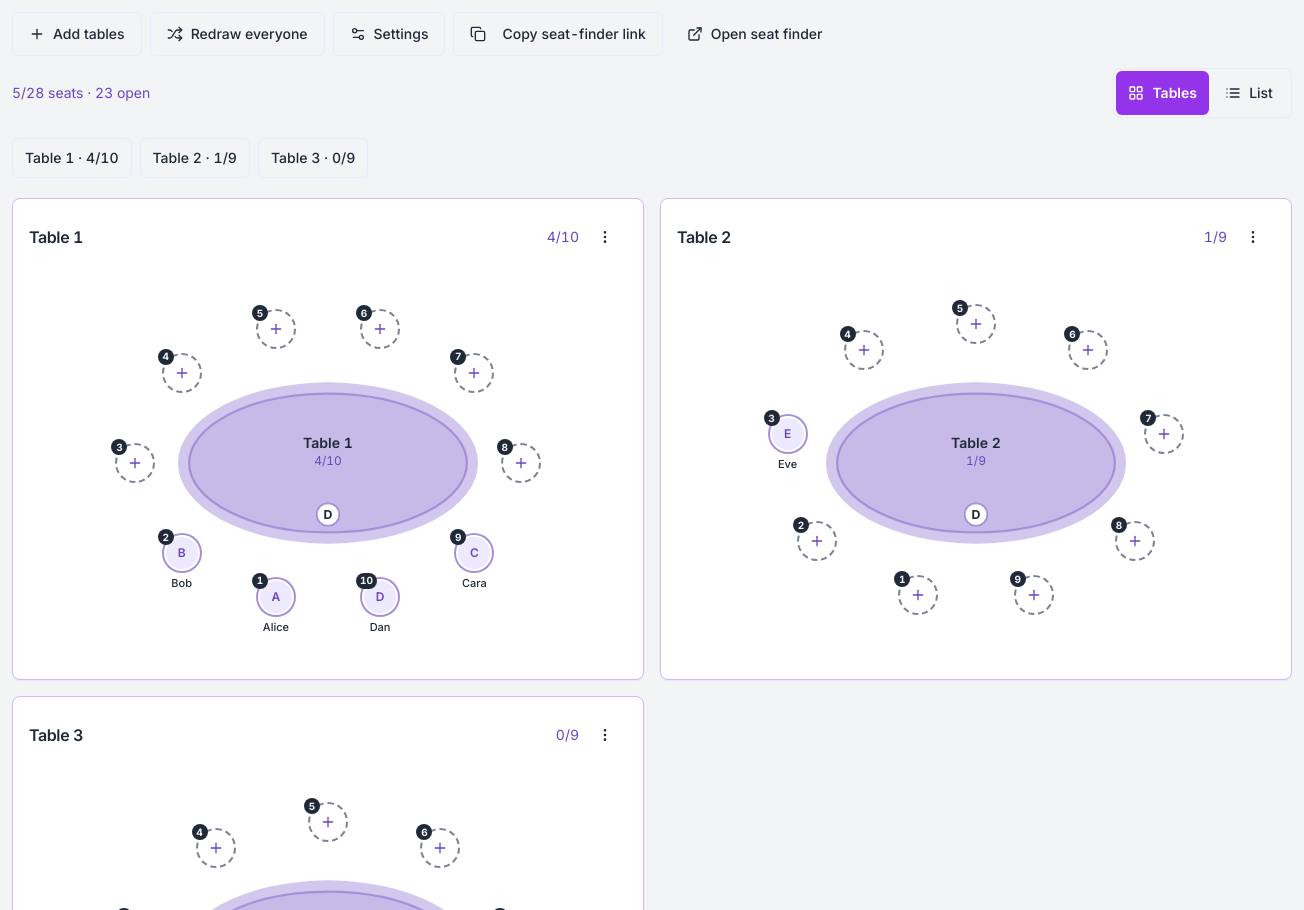
SeatingPanel: a table's menu › offers what each table can do now
The image size is (1304, 910).
Click the button named "Table 1 options" at (605, 237), box [583,215,627,259]
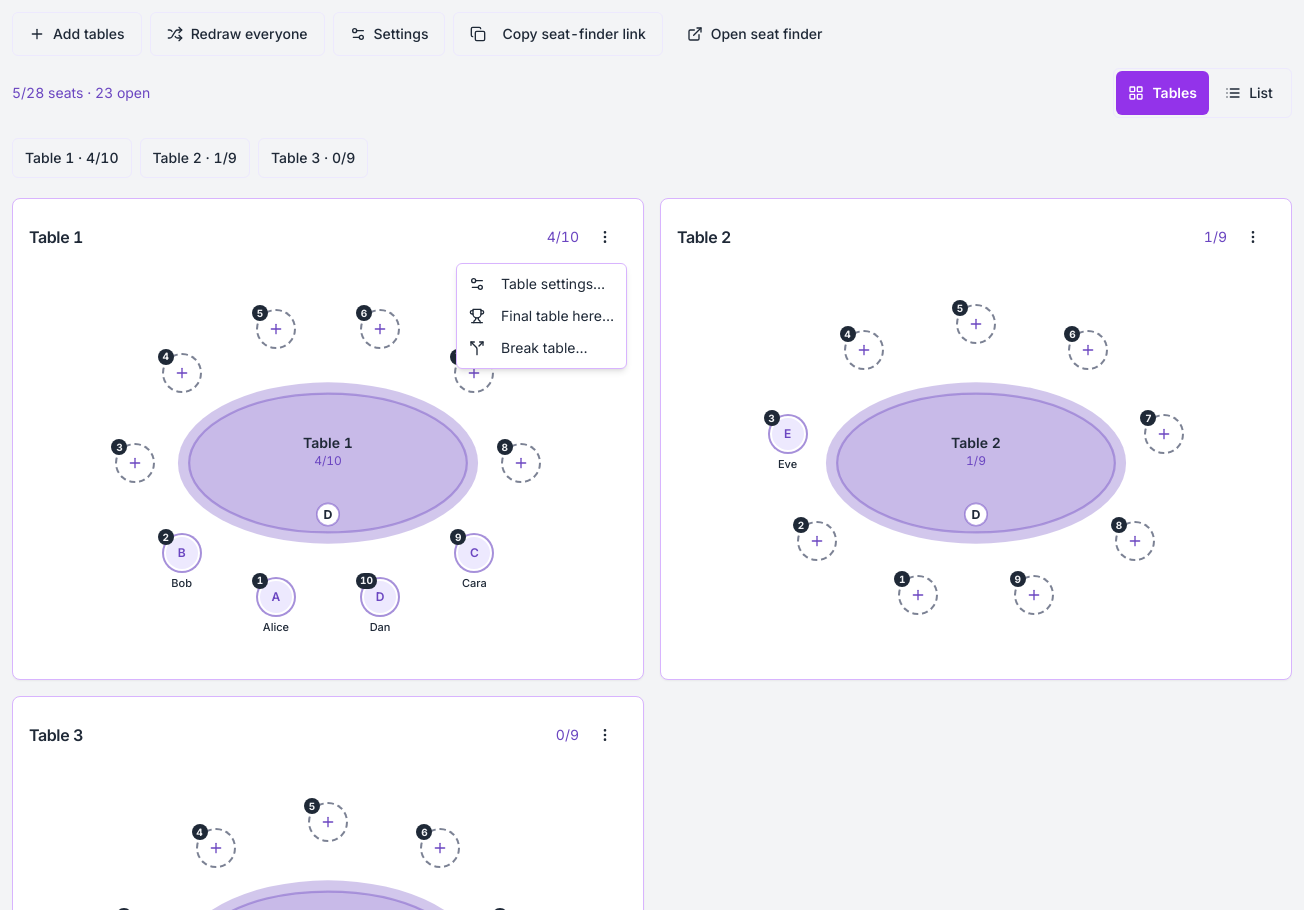
Expected: the menu items read "Table settings…", "Final table here…", "Break table…", in this order, [469,275,605,292]; [469,307,614,324]; [469,339,588,356]
Press Escape
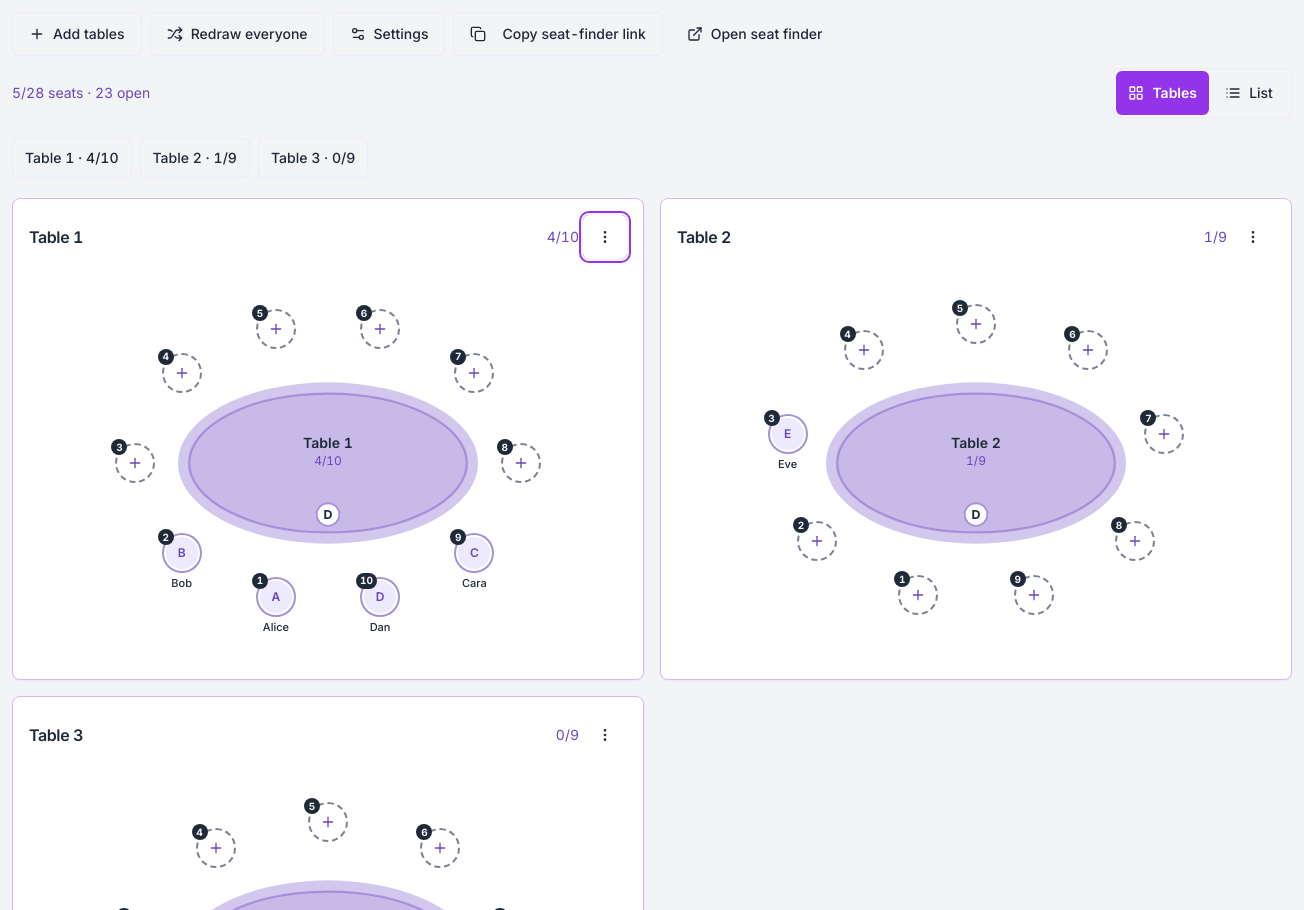
Click the button named "Table 3 options" at (605, 735), box [583,713,627,757]
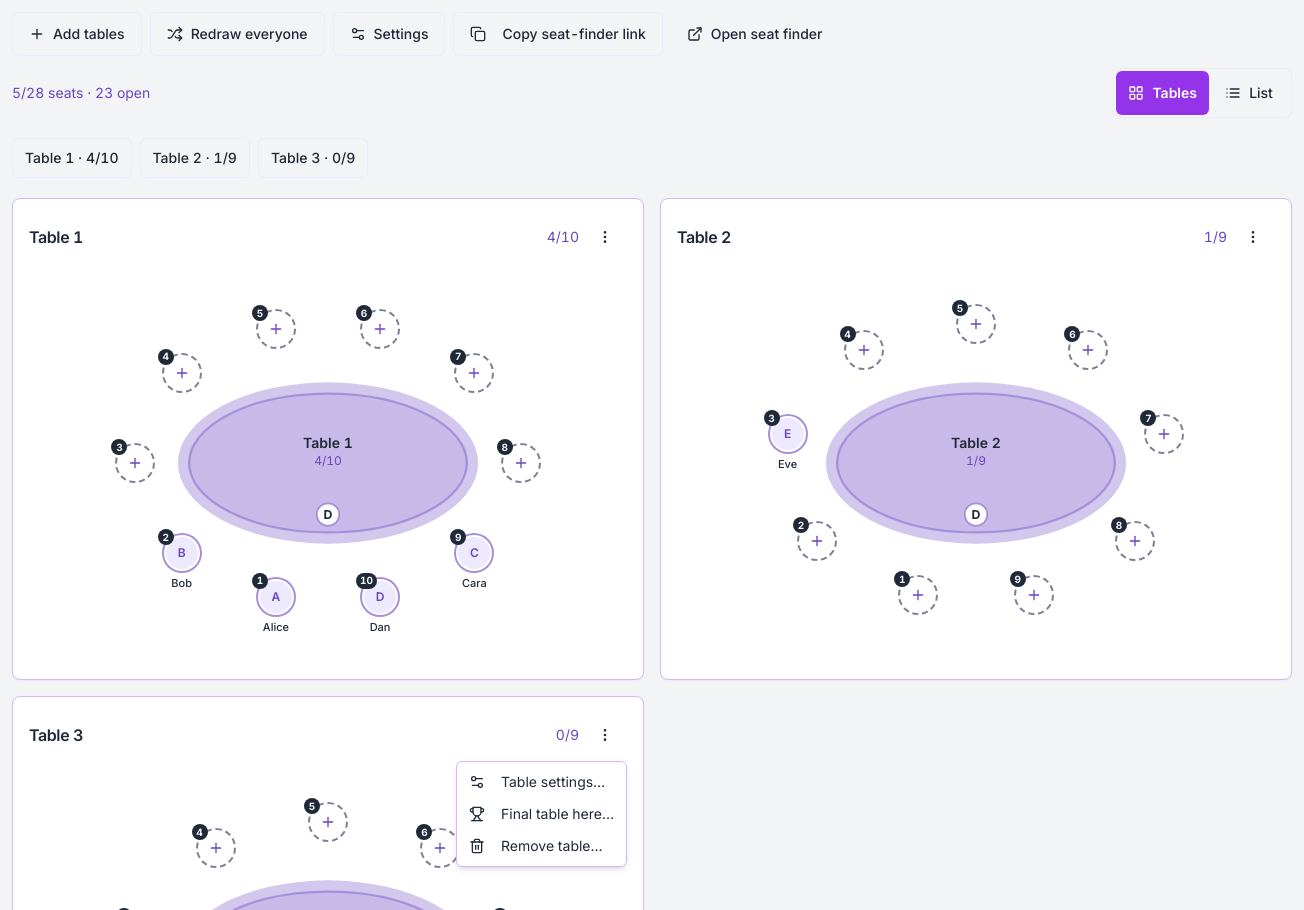
Expected: the menu items read "Table settings…", "Final table here…", "Remove table…", in this order, [469,773,605,790]; [469,805,614,822]; [469,837,603,854]
